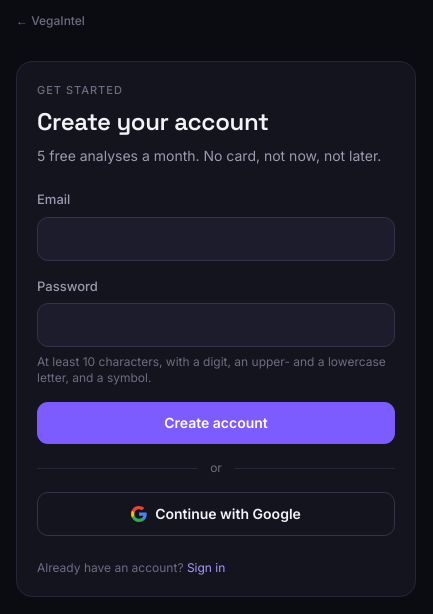
SignupPage — errors › shows Supabase's own error inline (e.g. a weak password)
Type "a@example.com" into the field labelled "Email".
click(216, 239); type("a@example.com")  # box [37,217,395,261]
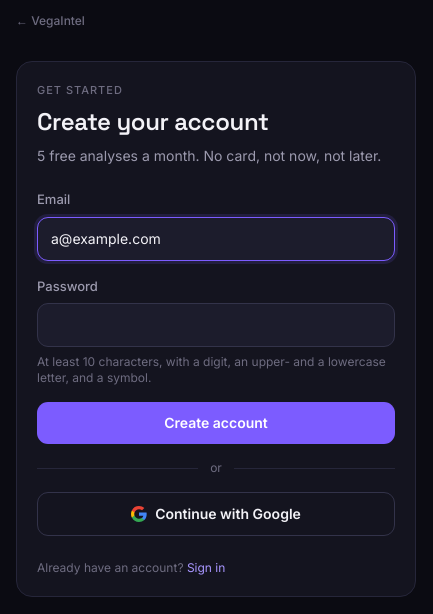
Type "short" into the password field labelled "Password".
click(216, 325); type("short")  # box [37,303,395,347]
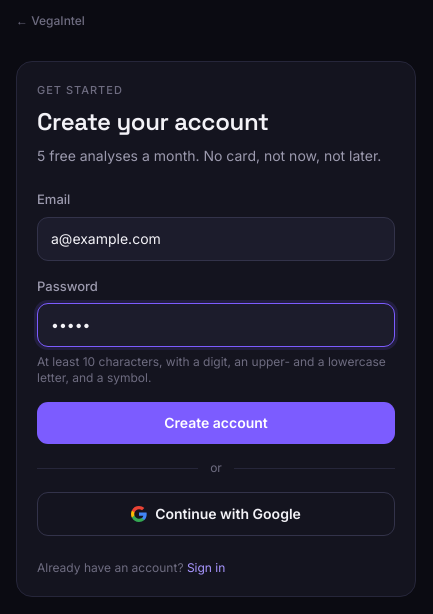
Click the button "Create account".
click(216, 423)  # box [37,402,395,444]
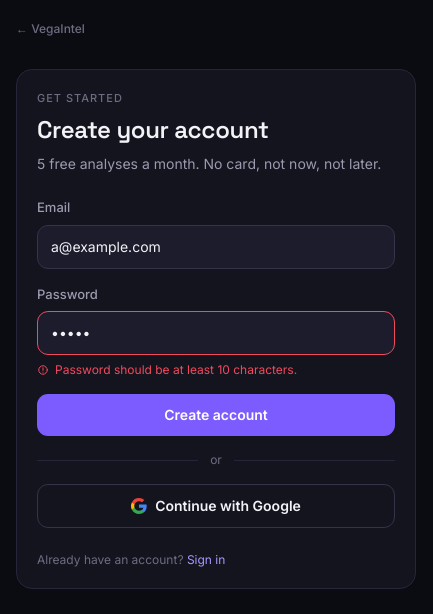
Now the text "Password should be at least 10 characters." is shown, box [37,362,297,377]
